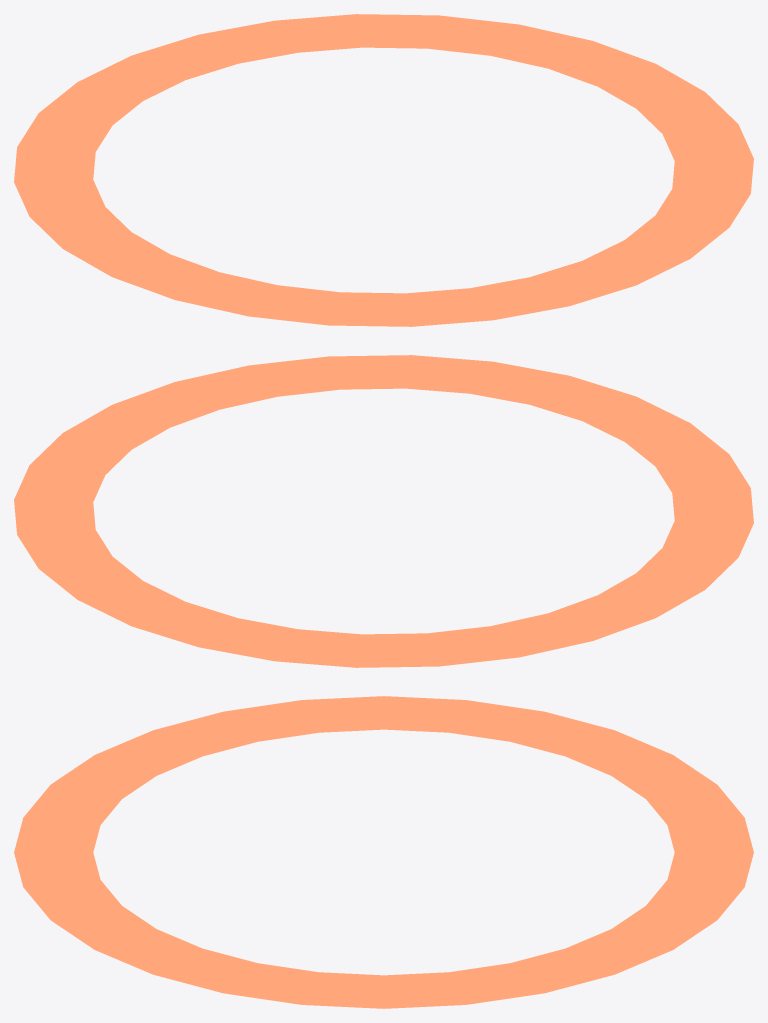
Rendered from impact.glb.
3 views of the same model, one above another, from view 1: azimuth 30°, elevation 25°; view 2: azimuth 150°, elevation 25°; view 3: azimuth 270°, elevation 25° (orthographic).
Parts seen in each view (by area): view 1: impact; view 2: impact; view 3: impact.
Part boxes in pixels (x1,y1,x2,y2): impact: (14,14,753,326); impact: (14,355,753,667); impact: (14,696,753,1008).
Size of the model in its own units: 2.8 by 0 by 2.8.
